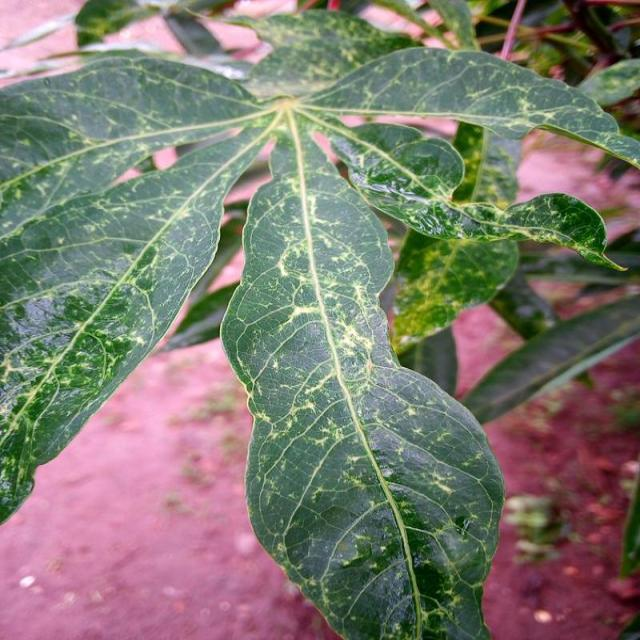cassava leaf: (0, 9, 638, 636), (218, 116, 506, 638)
